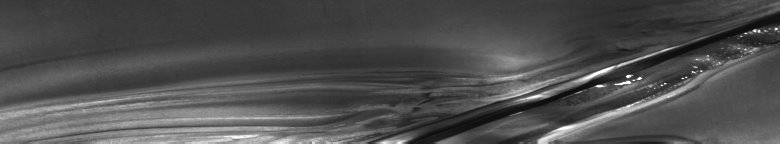ke: (45, 9, 776, 136)
